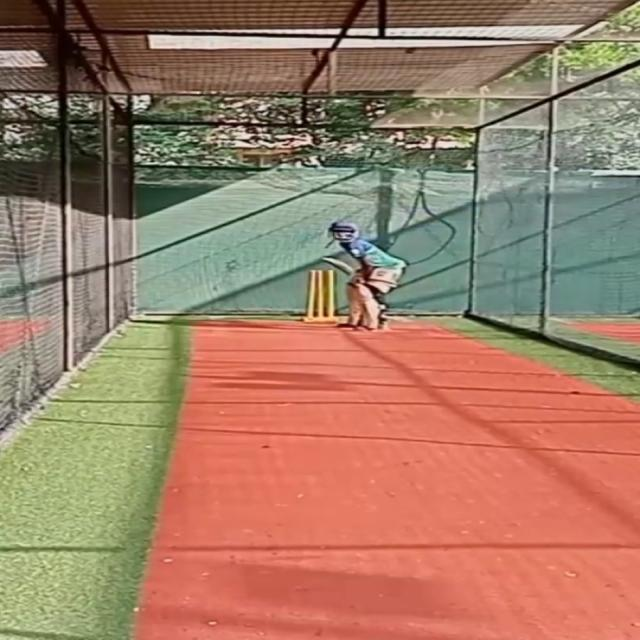stump: (300, 270, 338, 324)
